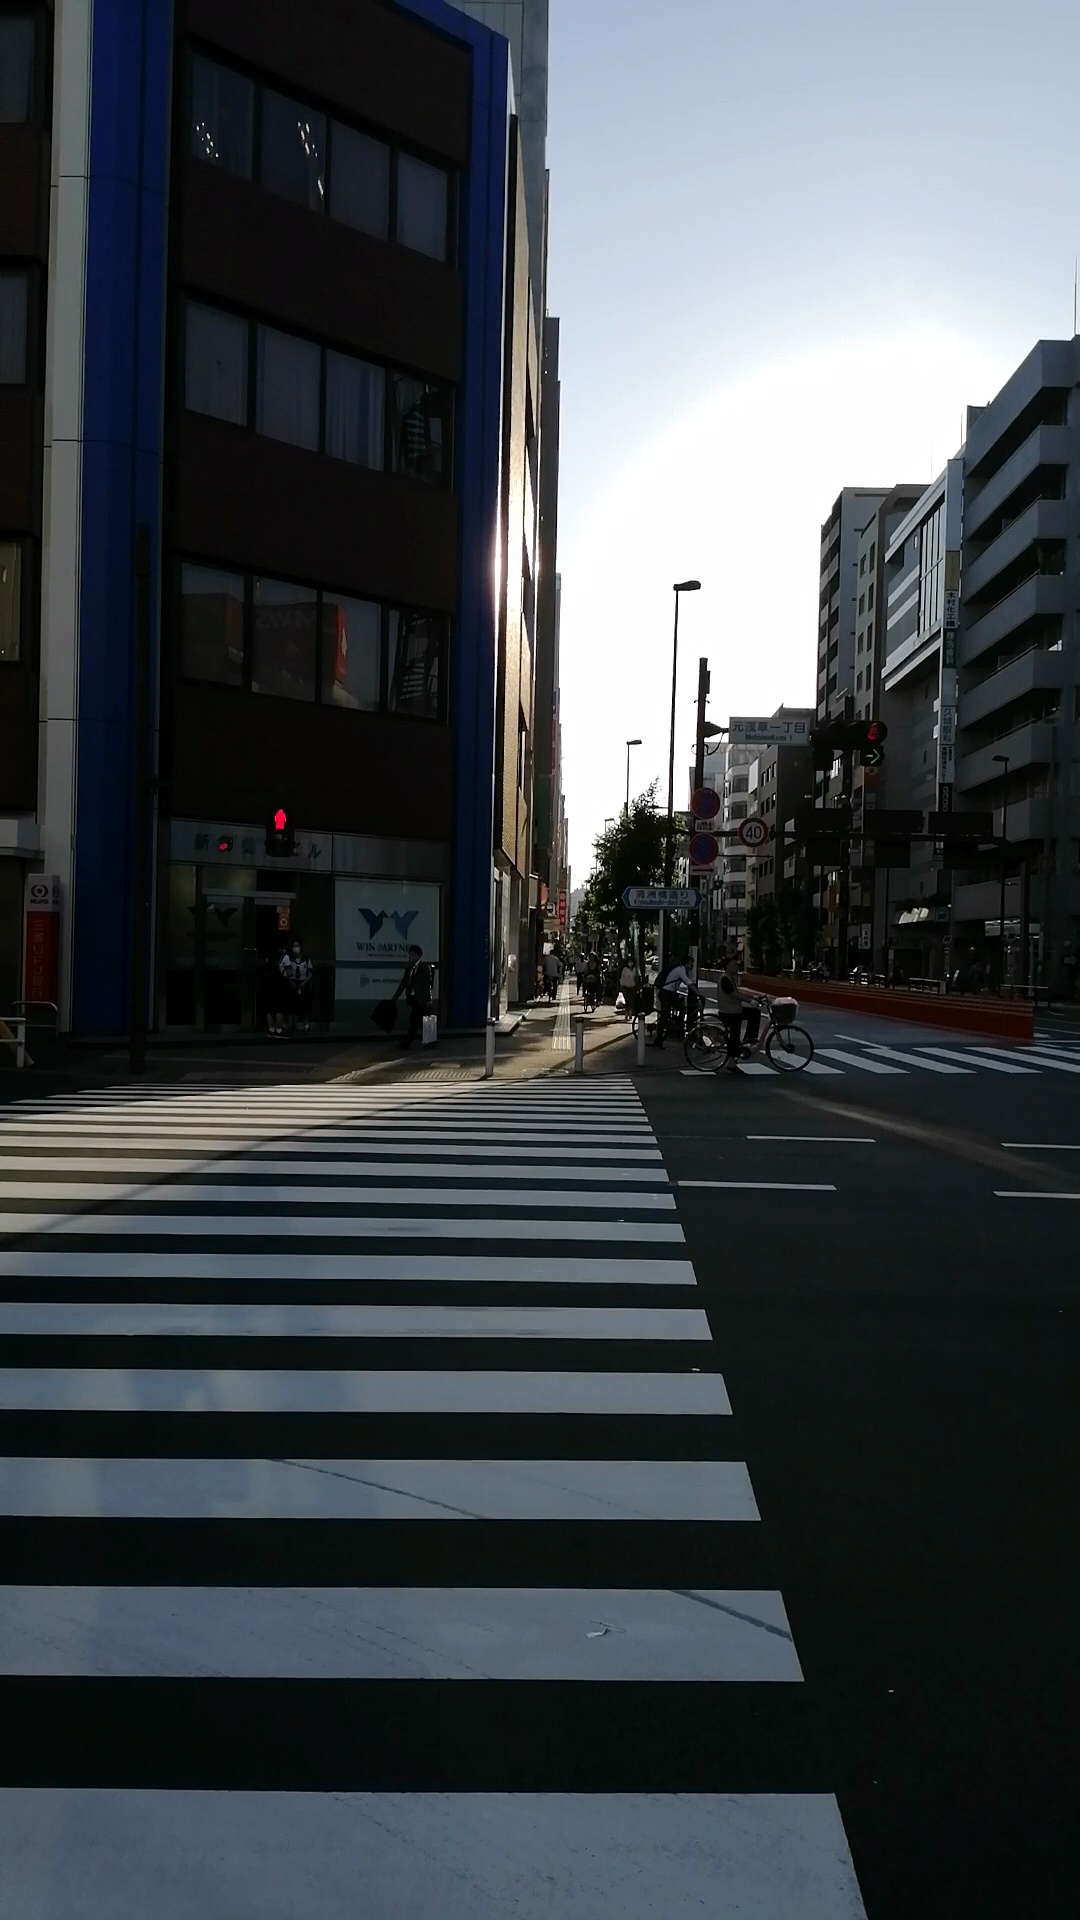red: (264, 799, 295, 865)
